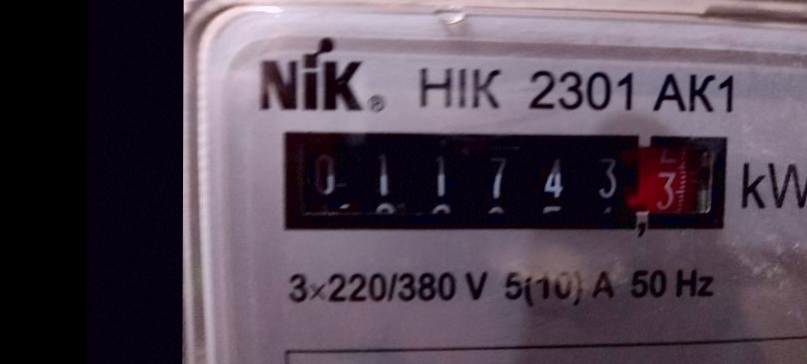0: (310, 149, 340, 197)
1: (430, 151, 452, 199), (375, 151, 393, 199)
3: (594, 153, 623, 201), (654, 168, 679, 212)
4: (540, 152, 569, 200)
7: (486, 153, 511, 201)
screen: (268, 121, 735, 241)
